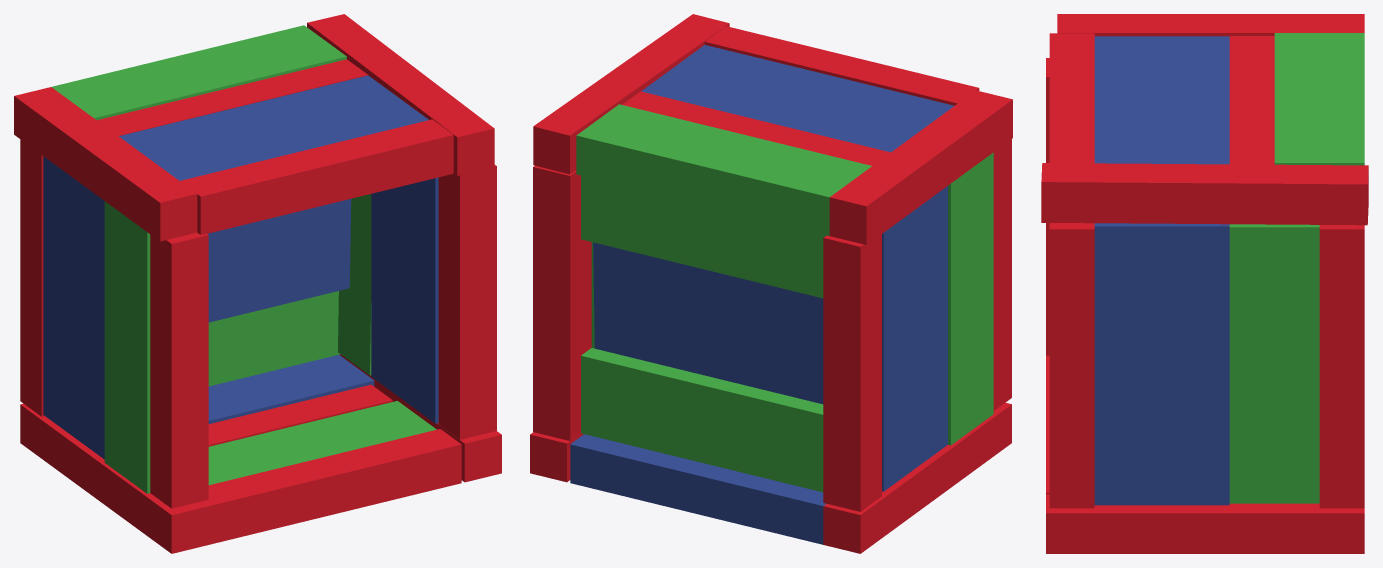
File: tinker.obj
3 views of the same model, side by side, from view 1: azimuth 30°, elevation 25°; view 2: azimuth 150°, elevation 25°; view 3: azimuth 270°, elevation 25° (orthographic). The views are drawn at different scales.
Visible parts, largest first — view 1: group_0_15277357, group_0_3888547, group_0_4634441; view 2: group_0_15277357, group_0_3888547, group_0_4634441; view 3: group_0_15277357, group_0_3888547, group_0_4634441.
Boxes of the visible parts, <box> form: group_0_15277357: <box>14,14,501,553</box>; group_0_3888547: <box>43,75,438,459</box>; group_0_4634441: <box>51,25,436,493</box>; group_0_15277357: <box>530,14,1012,553</box>; group_0_3888547: <box>570,45,954,544</box>; group_0_4634441: <box>576,104,993,492</box>; group_0_15277357: <box>1041,14,1368,553</box>; group_0_3888547: <box>1094,36,1229,505</box>; group_0_4634441: <box>1229,33,1364,503</box>.
Bounding box in the file's own units: 109 × 109 × 87.2.
